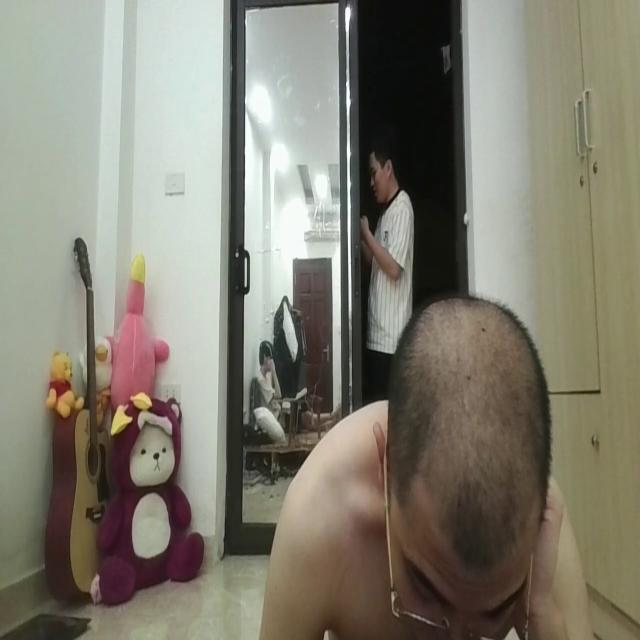extra_person: (360, 130, 418, 372), (259, 333, 291, 402)
student: (258, 273, 596, 640)
